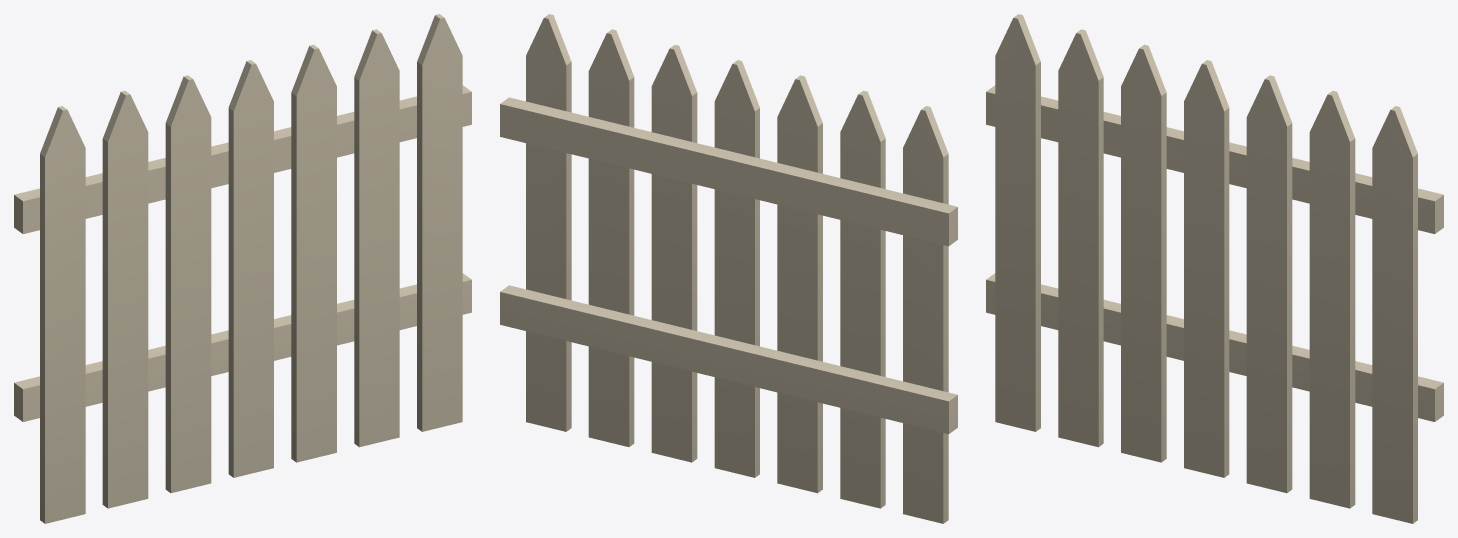
File: fence_picket_run.glb
The picture shows the model from 3 angles, left to right: view 1: azimuth 30°, elevation 25°; view 2: azimuth 150°, elevation 25°; view 3: azimuth 330°, elevation 25°; orthographic projection.
Parts seen in each view (by area): view 1: fence_picket_run; view 2: fence_picket_run; view 3: fence_picket_run.
Boxes of the visible parts, bbox=[...] form: fence_picket_run: bbox=[14, 14, 471, 523]; fence_picket_run: bbox=[500, 14, 957, 523]; fence_picket_run: bbox=[986, 14, 1443, 523].
Size of the model in its own units: 1 by 0.87 by 0.0595.
